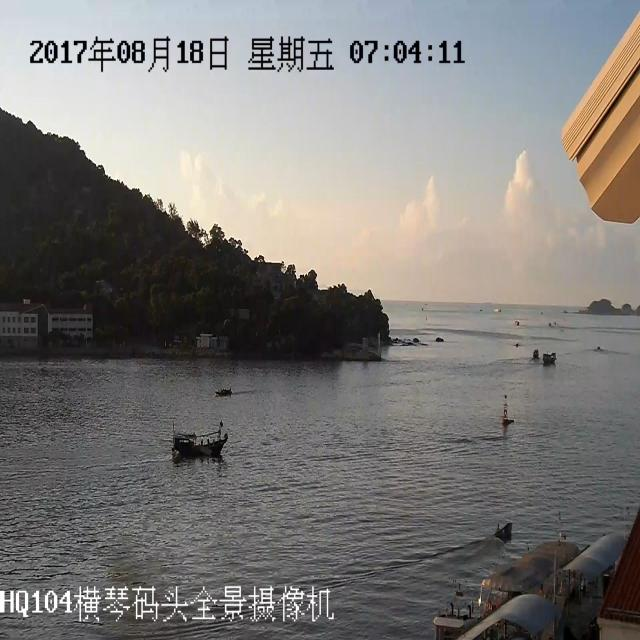buoy: (488, 371, 518, 429)
fishing boat: (165, 408, 236, 478), (214, 378, 236, 403)
